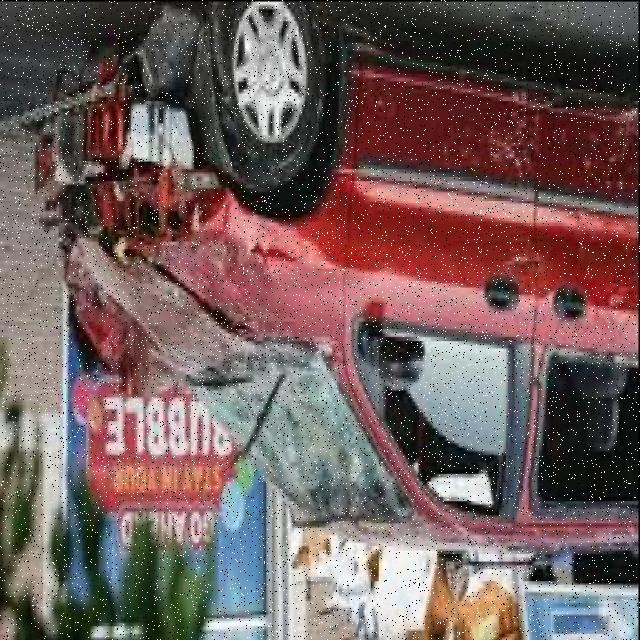damage: (30, 0, 457, 547)
